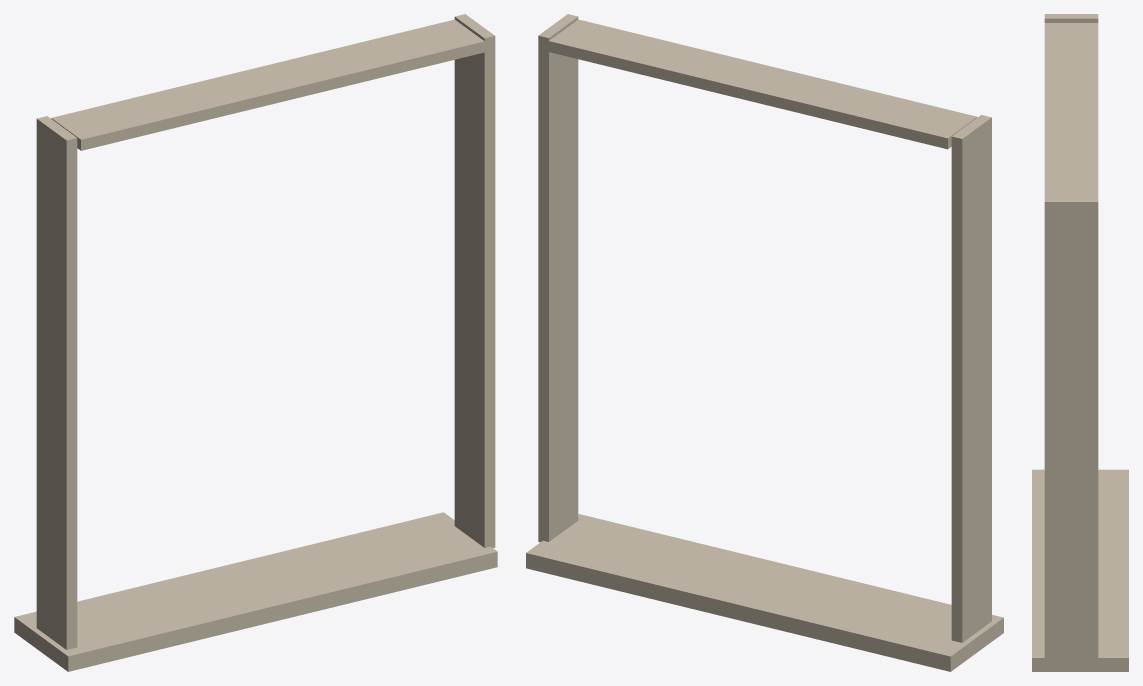
The model's file is Small Window Frame.fbx.
3 renders of one model, left to right at view 1: azimuth 30°, elevation 25°; view 2: azimuth 150°, elevation 25°; view 3: azimuth 270°, elevation 25°, orthographic. The views are drawn at different scales.
Visible parts, largest first — view 1: SmallWindowFrame001 (×2), SmallWindowSill, SmallWindowFrame; view 2: SmallWindowFrame001 (×2), SmallWindowSill, SmallWindowFrame; view 3: SmallWindowFrame001 (×2), SmallWindowSill, SmallWindowFrame.
Boxes of the visible parts, x1,y1,x2,y2 form: SmallWindowFrame001 (×2): (51,14,495,548); SmallWindowSill: (14,512,497,671); SmallWindowFrame: (36,116,77,649); SmallWindowFrame001 (×2): (538,14,977,542); SmallWindowSill: (526,514,1003,671); SmallWindowFrame: (951,115,991,642); SmallWindowFrame001 (×2): (1044,23,1098,661); SmallWindowSill: (1032,469,1128,671); SmallWindowFrame: (1044,14,1098,22).
Size of the model in its own units: 80.14 by 92.65 by 17.23.
